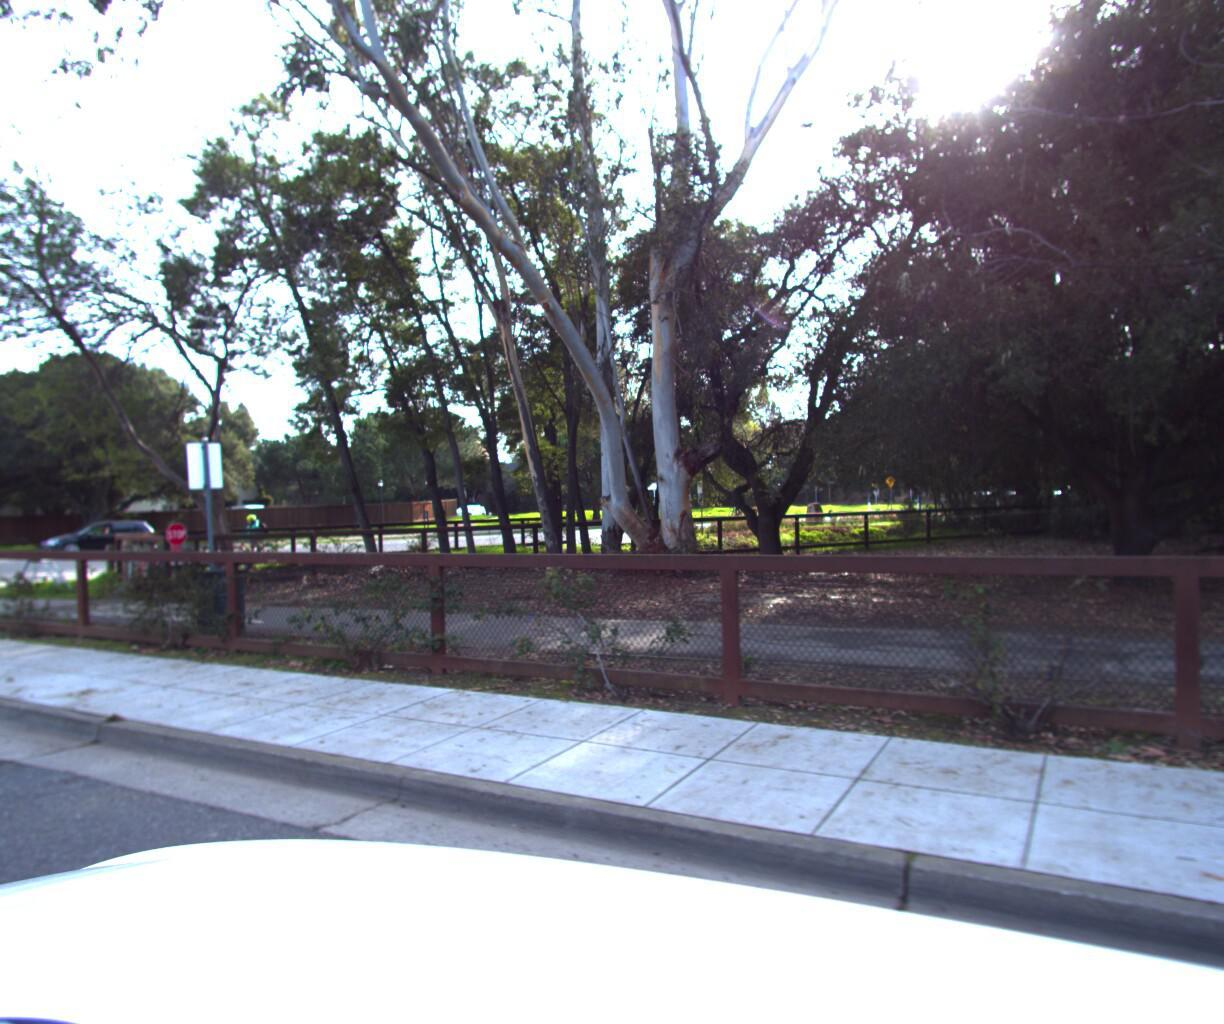bicycle: (222, 511, 287, 564)
bus: (605, 478, 698, 513)
car: (33, 516, 159, 561), (448, 501, 488, 519)
